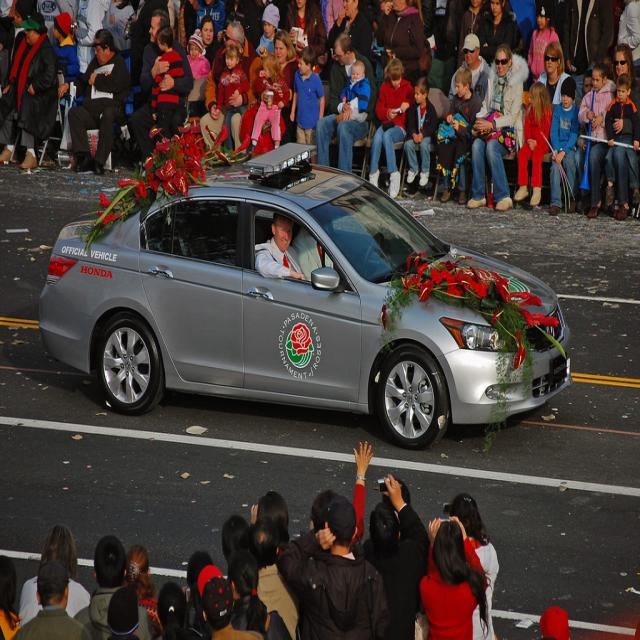car: (34, 137, 574, 448)
